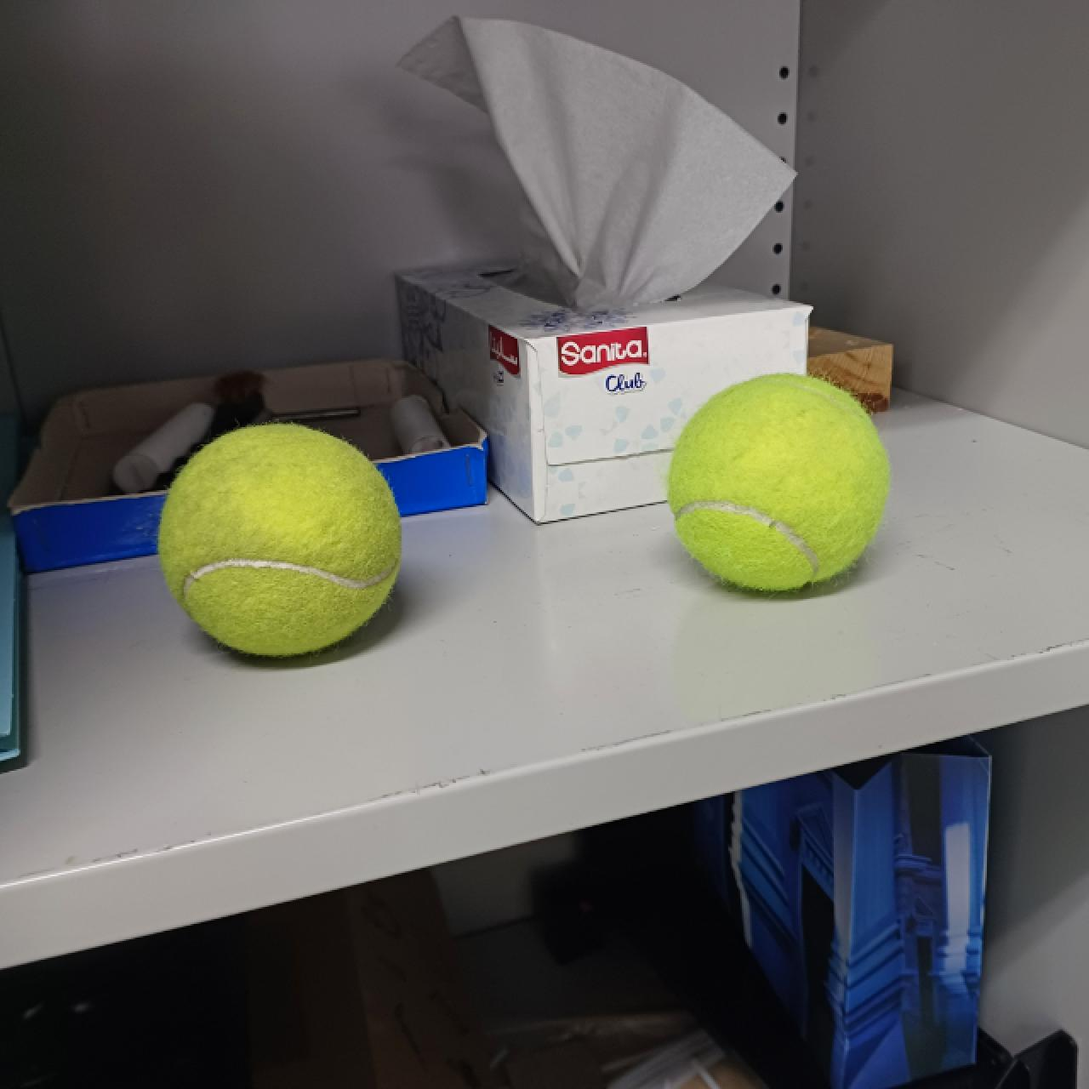tennis-ball: (161, 419, 402, 660), (665, 370, 888, 593)
